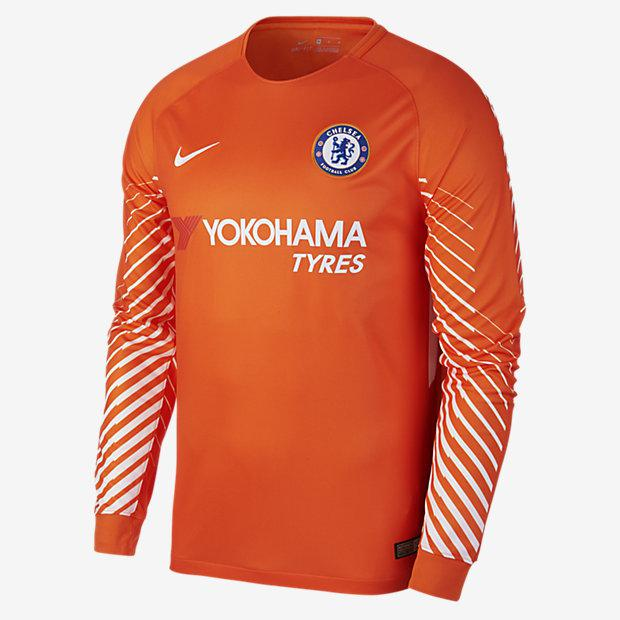teeshirt: (66, 7, 611, 620)
